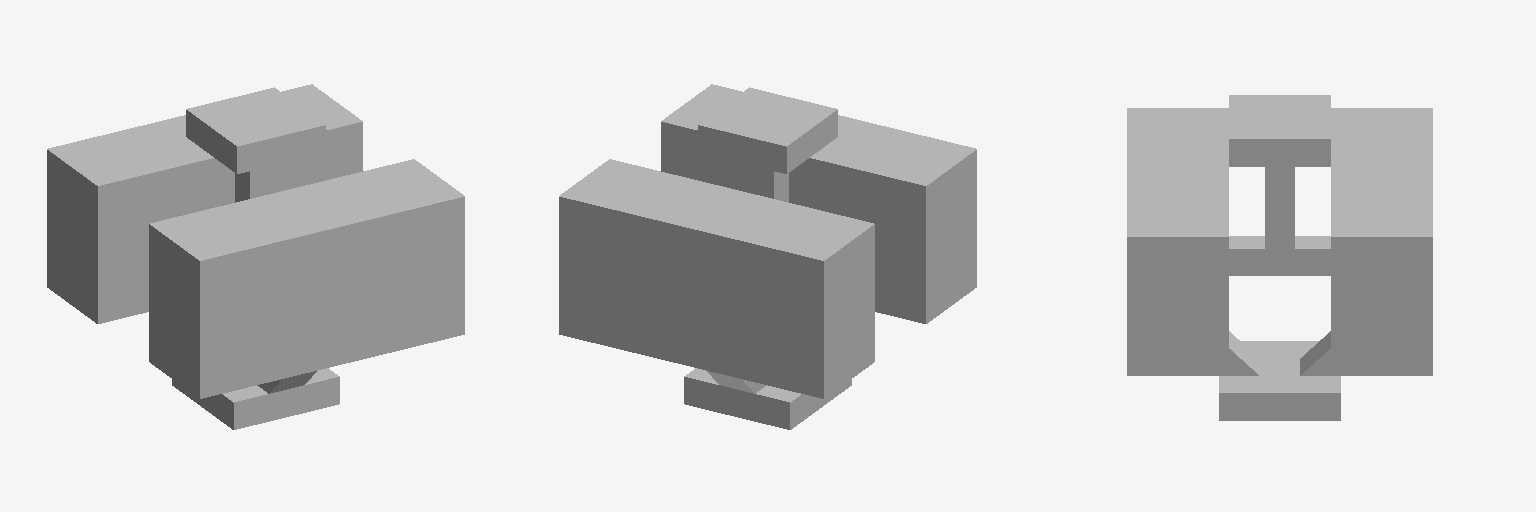
The model's file is fuel_cell-v2.obj.
3 renders of one model, left to right at view 1: azimuth 30°, elevation 25°; view 2: azimuth 150°, elevation 25°; view 3: azimuth 270°, elevation 25°, orthographic.
Parts seen in each view (by area): view 1: Tank, Tank2_Tank.001, WaterIn_Cube.002, FuelCell_PowerInlet; view 2: Tank2_Tank.001, Tank, WaterIn_Cube.002, FuelCell_PowerInlet; view 3: Tank, Tank2_Tank.001, WaterIn_Cube.002, FuelCell_PowerInlet.
Boxes of the visible parts, <box> form: Tank: <box>149,159,464,398</box>; Tank2_Tank.001: <box>47,84,362,323</box>; WaterIn_Cube.002: <box>186,87,325,202</box>; FuelCell_PowerInlet: <box>172,368,339,429</box>; Tank2_Tank.001: <box>559,159,874,398</box>; Tank: <box>661,84,976,323</box>; WaterIn_Cube.002: <box>698,87,837,202</box>; FuelCell_PowerInlet: <box>684,368,851,429</box>; Tank: <box>1127,108,1228,375</box>; Tank2_Tank.001: <box>1331,108,1432,375</box>; WaterIn_Cube.002: <box>1229,95,1330,275</box>; FuelCell_PowerInlet: <box>1219,331,1340,420</box>.
Bounding box in the file's own units: 1 × 1 × 1.